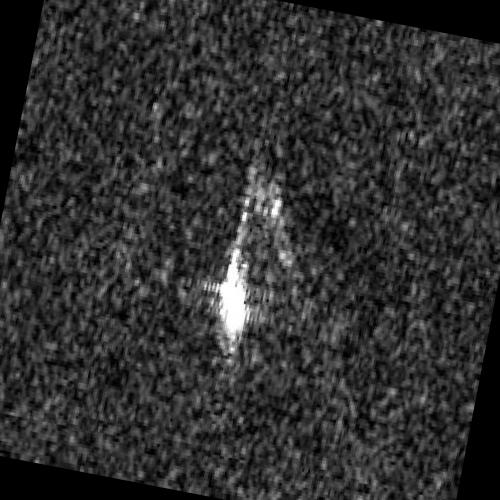ship: (216, 258, 249, 344)
